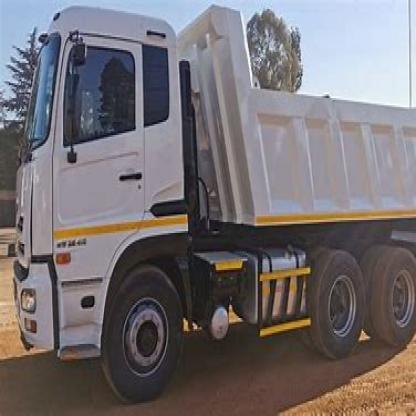dump_truck: (24, 2, 415, 379)
